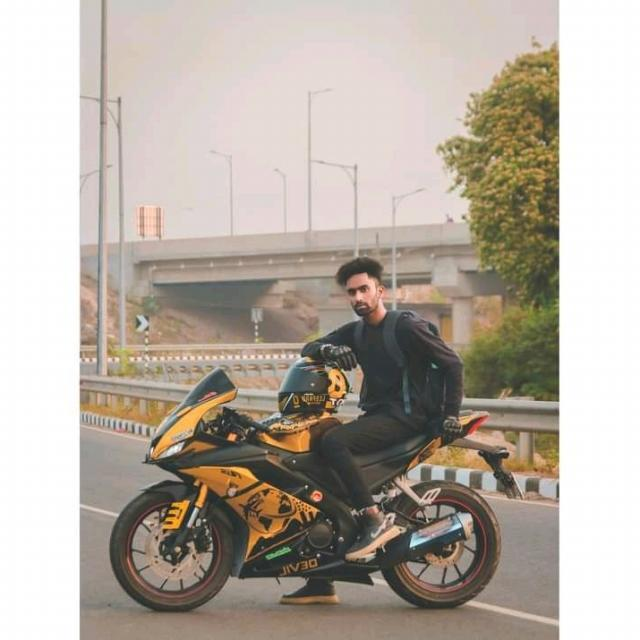No helmet: (338, 252, 398, 324)
